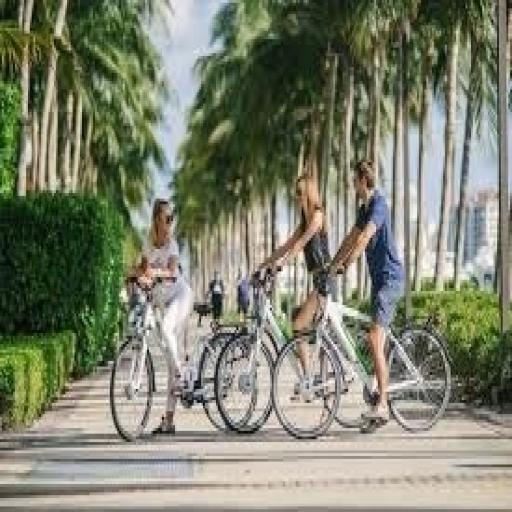cycling: (322, 154, 408, 436), (249, 160, 339, 406), (130, 193, 200, 439)
